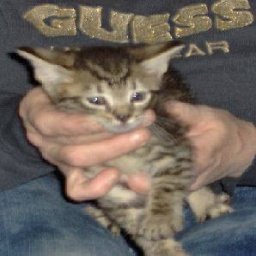cat: (14, 39, 232, 256)
